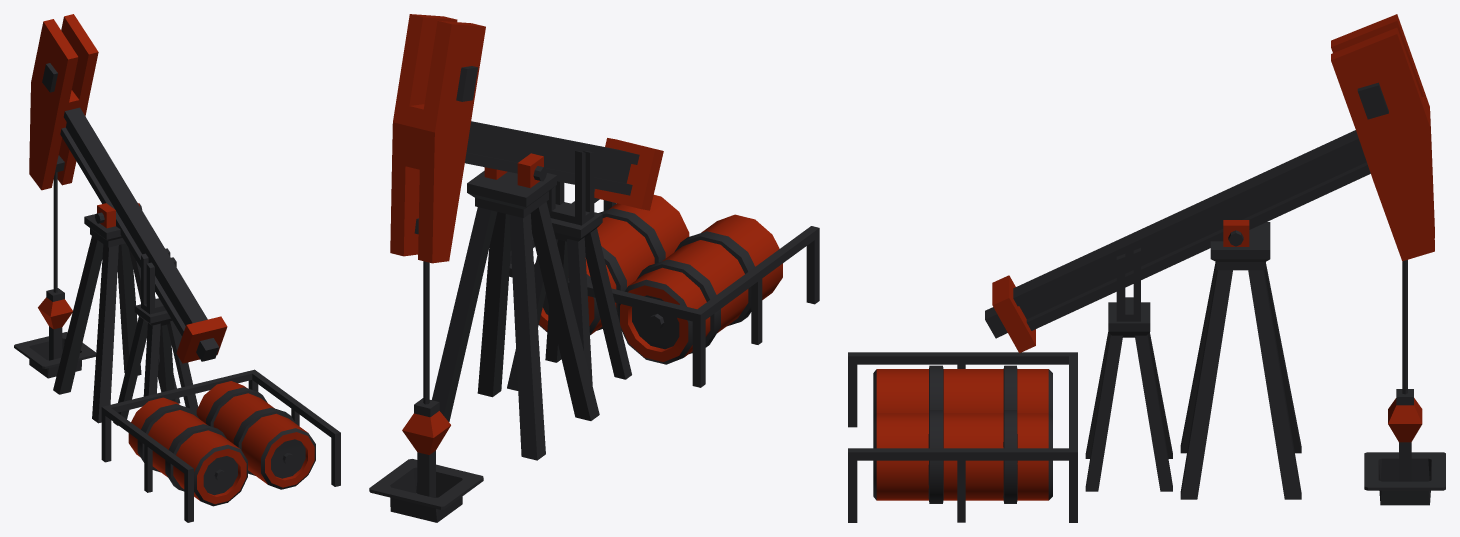
The model's file is OilPump.fbx.
The picture shows the model from 3 angles, left to right: view 1: azimuth 30°, elevation 25°; view 2: azimuth 150°, elevation 25°; view 3: azimuth 270°, elevation 25°; orthographic projection. The views are drawn at different scales.
Visible parts, largest first — view 1: OilPump; view 2: OilPump; view 3: OilPump.
Part boxes in pixels (bbox=[...]): OilPump: bbox=[14, 14, 340, 522]; OilPump: bbox=[369, 14, 819, 522]; OilPump: bbox=[848, 14, 1445, 522].
Bounding box in the file's own units: 117 × 258 × 298.
